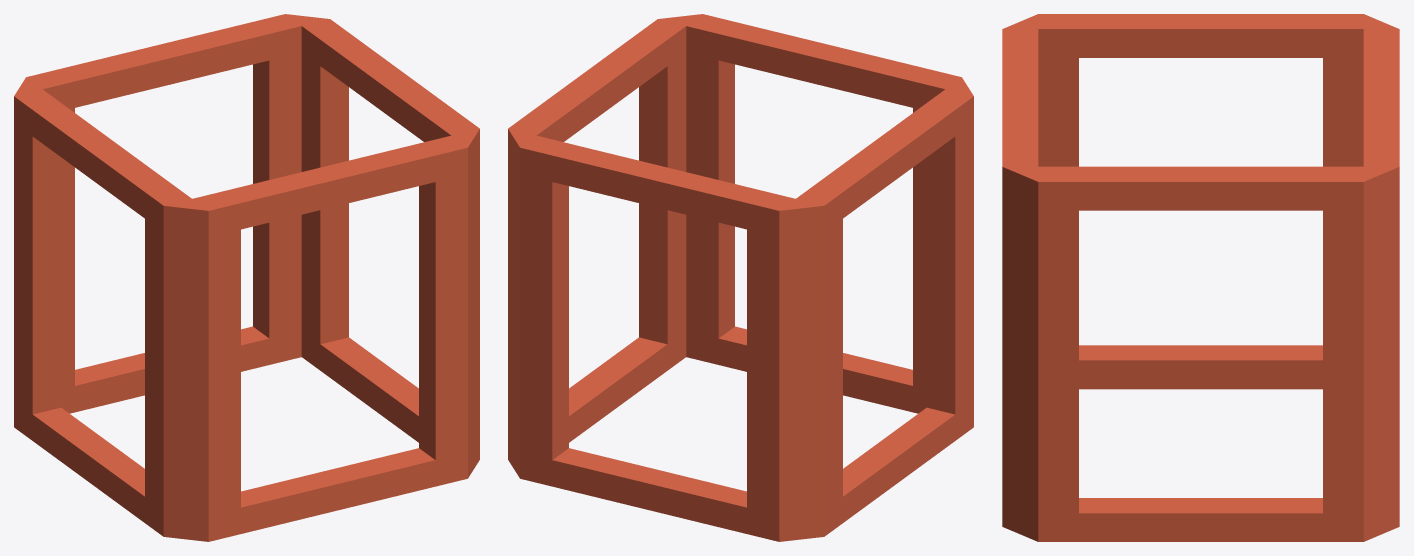
Rendered from metalstructure.glb.
3 views of the same model, side by side, from view 1: azimuth 30°, elevation 25°; view 2: azimuth 150°, elevation 25°; view 3: azimuth 270°, elevation 25° (orthographic). The views are drawn at different scales.
Visible parts, largest first — view 1: metalStructure; view 2: metalStructure; view 3: metalStructure.
Part boxes in pixels (x1=…): metalStructure: x1=14, y1=14, x2=479, y2=541; metalStructure: x1=508, y1=14, x2=973, y2=541; metalStructure: x1=1002, y1=14, x2=1399, y2=541.
Size of the model in its own units: 10 by 10 by 10.
